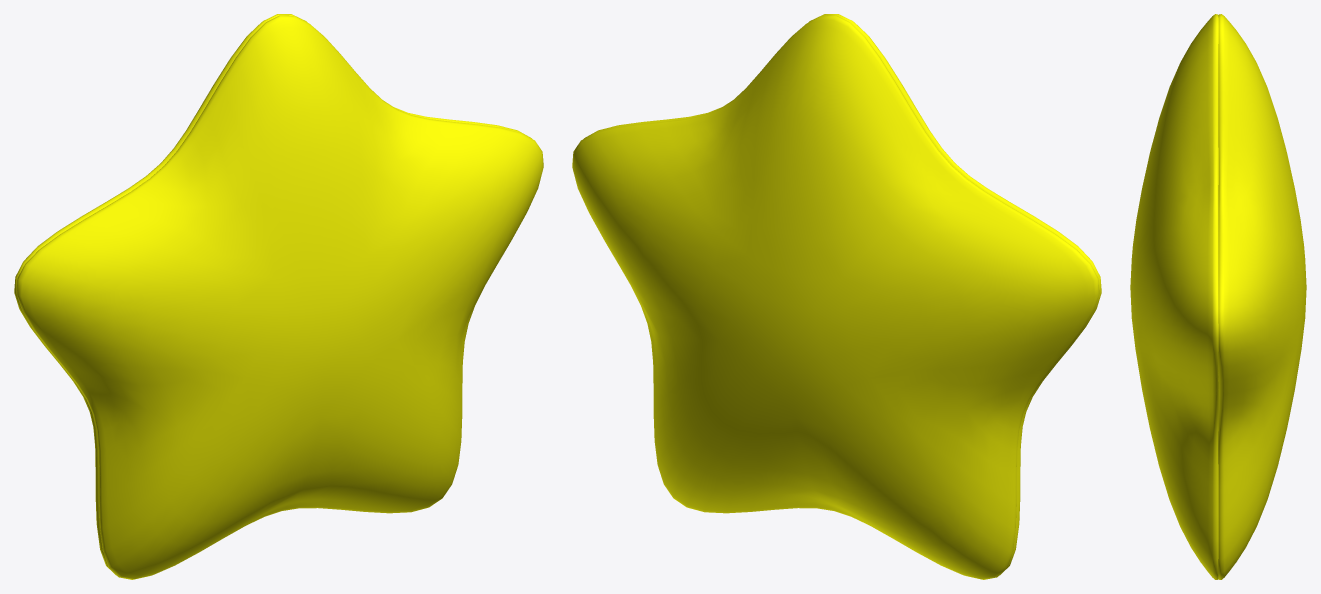
File: Sec5ARMissionPortalItemStar.glb
3 renders of one model, left to right at view 1: azimuth 30°, elevation 25°; view 2: azimuth 150°, elevation 25°; view 3: azimuth 270°, elevation 25°, orthographic. The views are drawn at different scales.
Visible parts, largest first — view 1: Object_4.002; view 2: Object_4.002; view 3: Object_4.002.
Boxes of the visible parts, x1,y1,x2,y2 form: Object_4.002: [14, 14, 543, 579]; Object_4.002: [572, 14, 1101, 579]; Object_4.002: [1130, 14, 1306, 579].
Bounding box in the file's own units: 0.0284 × 0.0273 × 0.0088.
